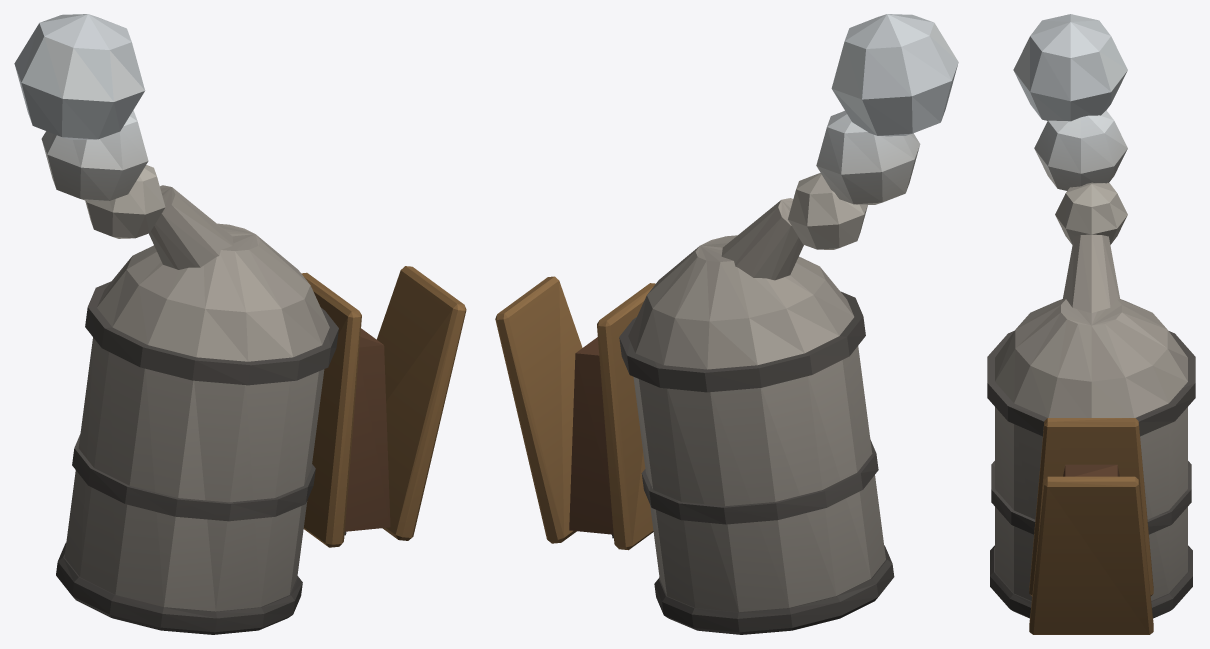
Rendered from bee_smoker.glb.
3 renders of one model, left to right at view 1: azimuth 30°, elevation 25°; view 2: azimuth 150°, elevation 25°; view 3: azimuth 270°, elevation 25°, orthographic. The views are drawn at different scales.
Visible parts, largest first — view 1: bee_smoker; view 2: bee_smoker; view 3: bee_smoker.
Boxes of the visible parts, <box> form: bee_smoker: <box>14,14,466,634</box>; bee_smoker: <box>495,14,958,634</box>; bee_smoker: <box>987,14,1195,634</box>.
Size of the model in its own units: 0.8041 by 1.11 by 0.3997.
